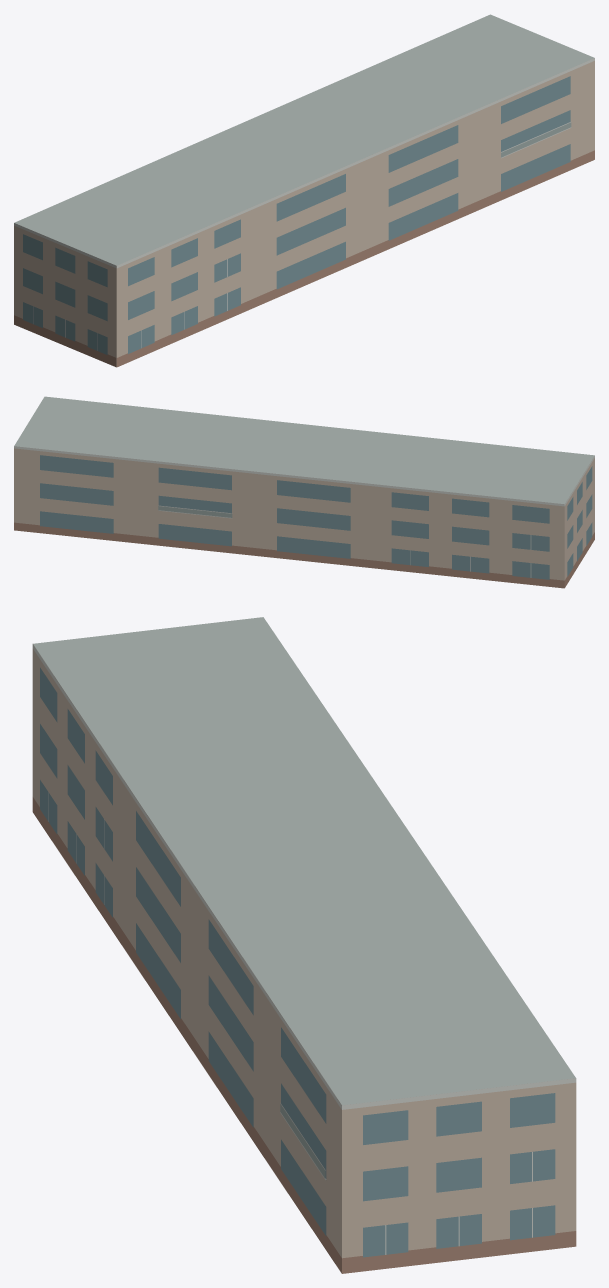
The model's file is survey-upis-32585671.glb.
3 views of the same model, one above another, from view 1: azimuth 30°, elevation 25°; view 2: azimuth 150°, elevation 25°; view 3: azimuth 270°, elevation 25° (orthographic). The views are drawn at different scales.
Visible parts, largest first — view 1: survey-upis-32585671.tmp; view 2: survey-upis-32585671.tmp; view 3: survey-upis-32585671.tmp.
Part boxes in pixels (x1,y1,x2,y2): survey-upis-32585671.tmp: (14, 14, 594, 367); survey-upis-32585671.tmp: (14, 396, 594, 588); survey-upis-32585671.tmp: (32, 617, 576, 1273).
Size of the model in its own units: 56.9 by 9.15 by 26.76.
